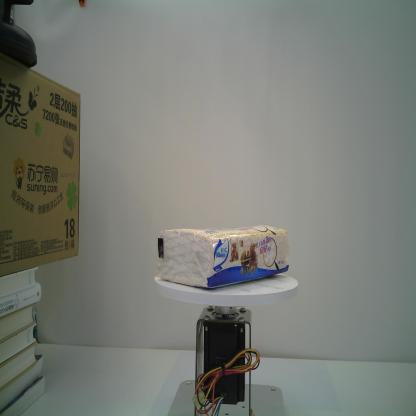Tissue: (154, 220, 290, 290)
